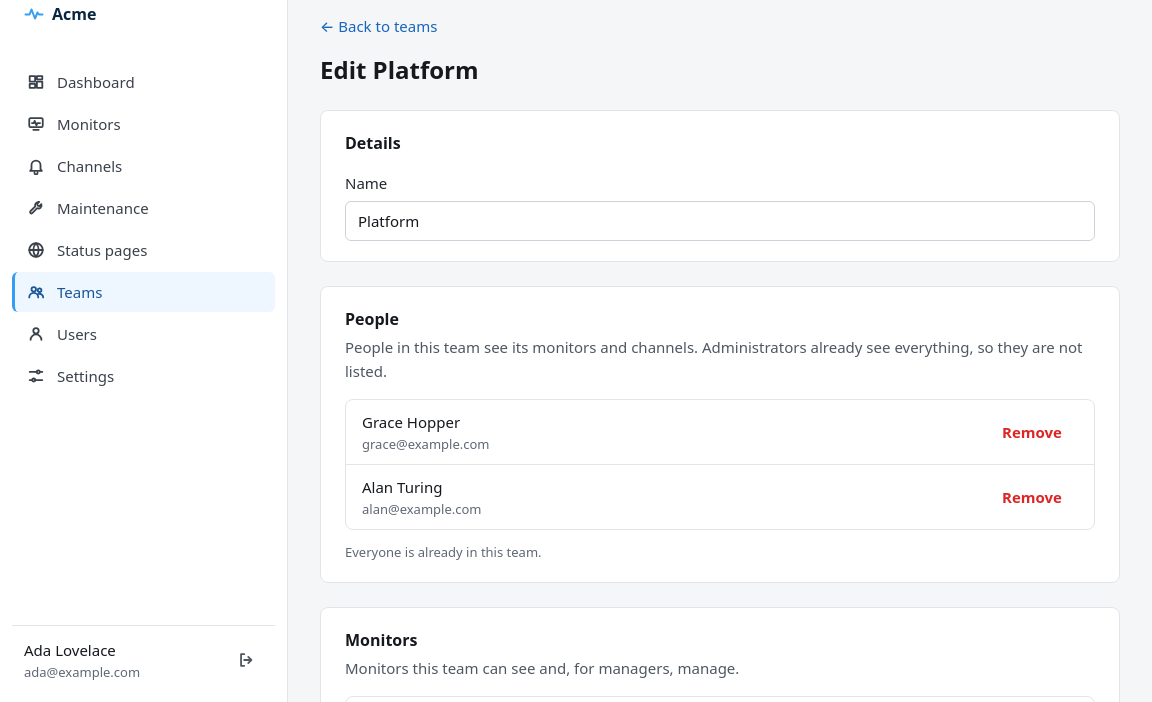
Scenario: Teams pages › removes a person and a monitor from a team and warns about monitors left without a team
Expected: the heading "Edit Platform" is shown, [320,53,478,86]
Click the button with aria-label "Remove Grace Hopper".
click(1032, 432)  # box [986,412,1078,452]
(page scrolled)
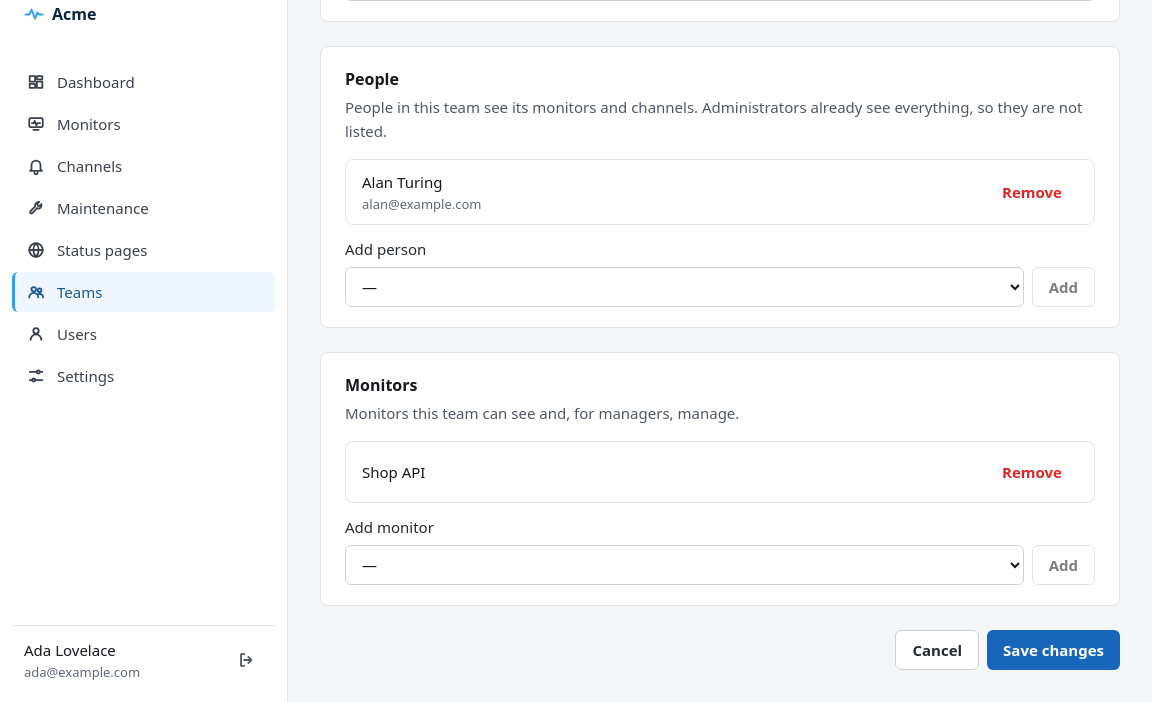
Click the button with aria-label "Remove Shop API".
click(1032, 472)  # box [986,452,1078,492]
(page scrolled)
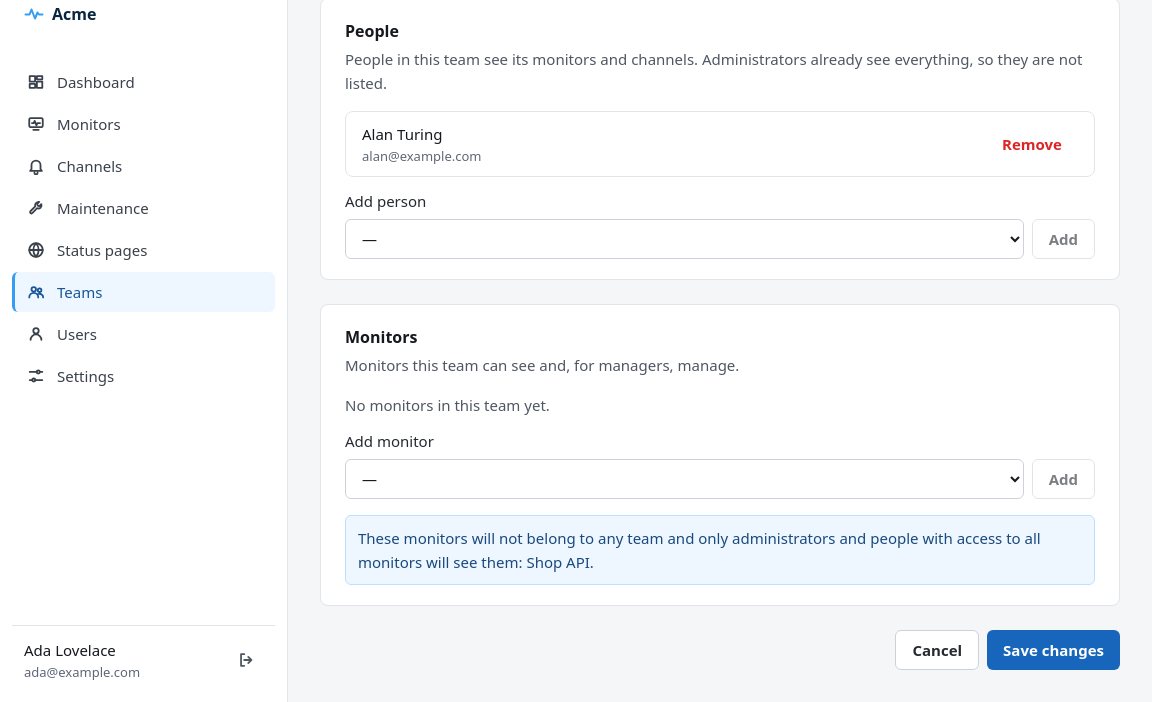
Click the button "Save changes".
click(1054, 650)  # box [987,630,1120,670]
(page scrolled)
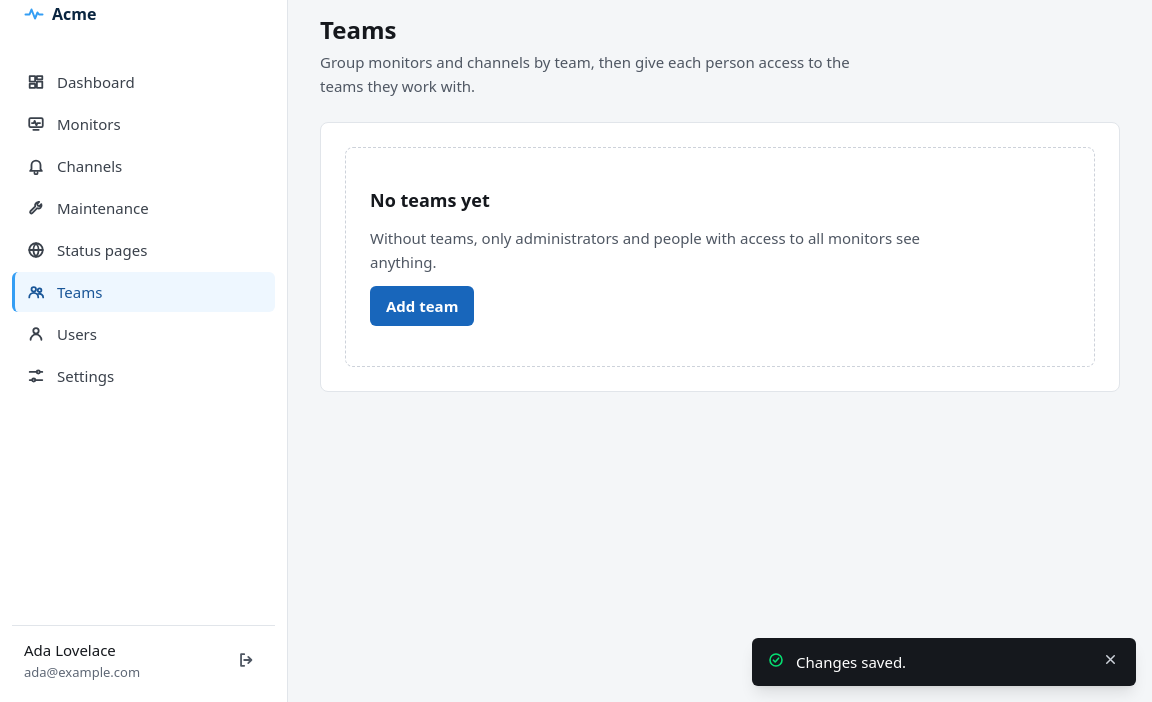
Expected: the text "Changes saved." is shown, [796,652,906,672]
